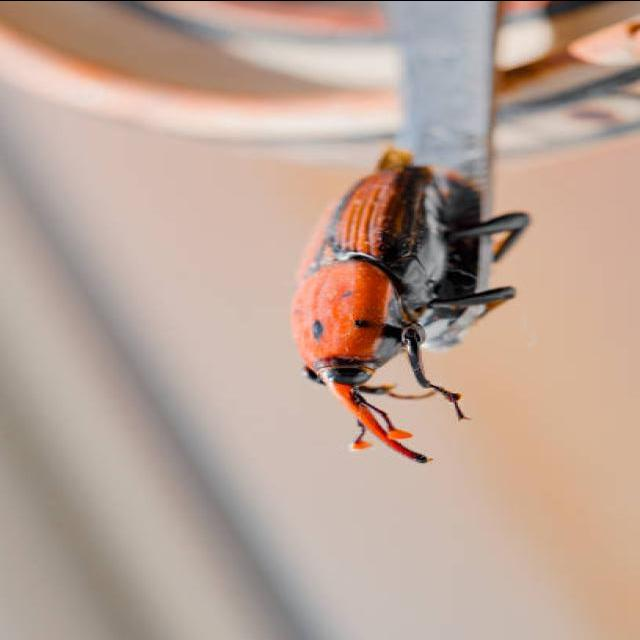Red-palm-weevil: (267, 128, 541, 464)
